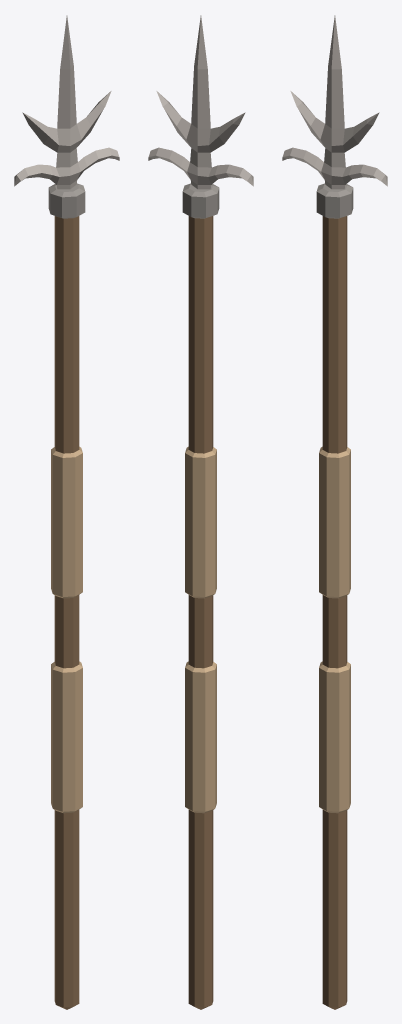
The model's file is SM_pwe_china_spear_01b.fbx.
The picture shows the model from 3 angles, left to right: view 1: azimuth 30°, elevation 25°; view 2: azimuth 150°, elevation 25°; view 3: azimuth 330°, elevation 25°; orthographic projection.
Visible parts, largest first — view 1: SM_pwe_china_spear_01b; view 2: SM_pwe_china_spear_01b; view 3: SM_pwe_china_spear_01b.
Boxes of the visible parts, x1,y1,x2,y2 form: SM_pwe_china_spear_01b: [14, 15, 119, 1009]; SM_pwe_china_spear_01b: [148, 15, 253, 1009]; SM_pwe_china_spear_01b: [282, 15, 387, 1009].
Bounding box in the file's own units: 20.56 × 186 × 6.43.
